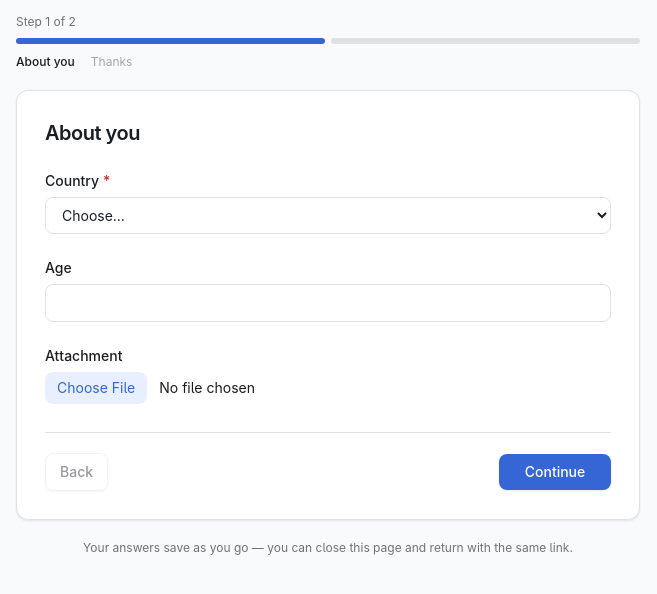
it: autosave › shows a server validation error against the field it belongs to
Expected: the heading "About you" is shown, [45,121,140,145]
In the number field labelled "Age": point(328, 303) [45,284,611,322], type "999"
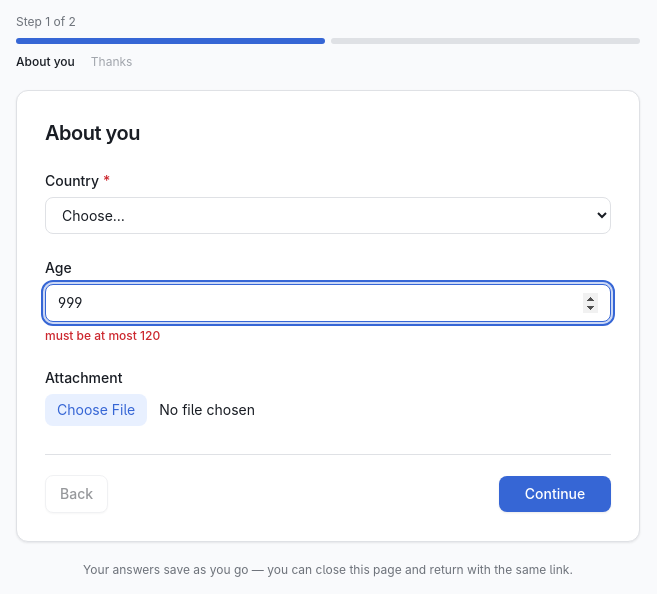
Expected: the text "must be at most 120" is shown, [45,328,160,343]
